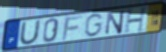0: (42, 17, 61, 44)
F: (61, 14, 84, 42)
G: (83, 12, 105, 38)
H: (123, 6, 149, 35)
N: (105, 9, 126, 36)
U: (19, 19, 42, 46)
